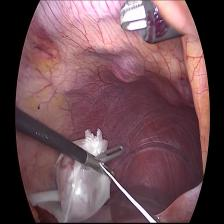Grasper: (86, 144, 128, 180)
Specimen Bag: (48, 126, 110, 224)
